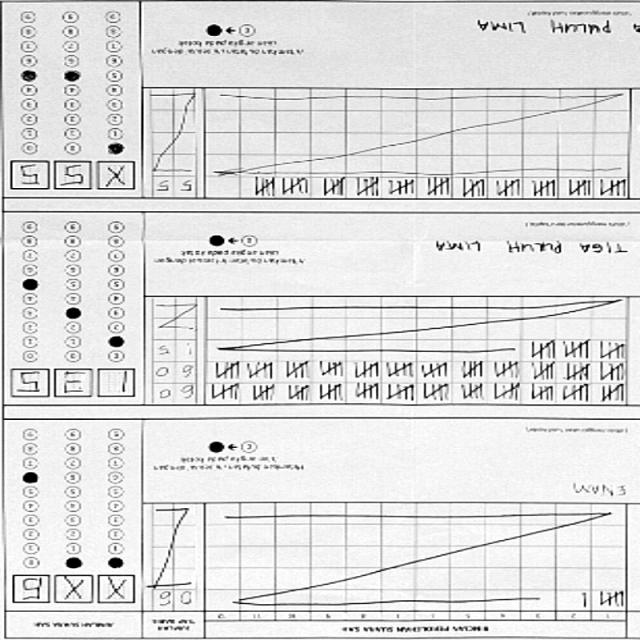Suara: (10, 572, 140, 610), (10, 366, 138, 404), (10, 158, 142, 194)
